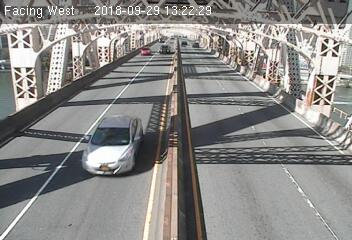car: (79, 115, 151, 178), (137, 44, 152, 56), (159, 42, 171, 55)
